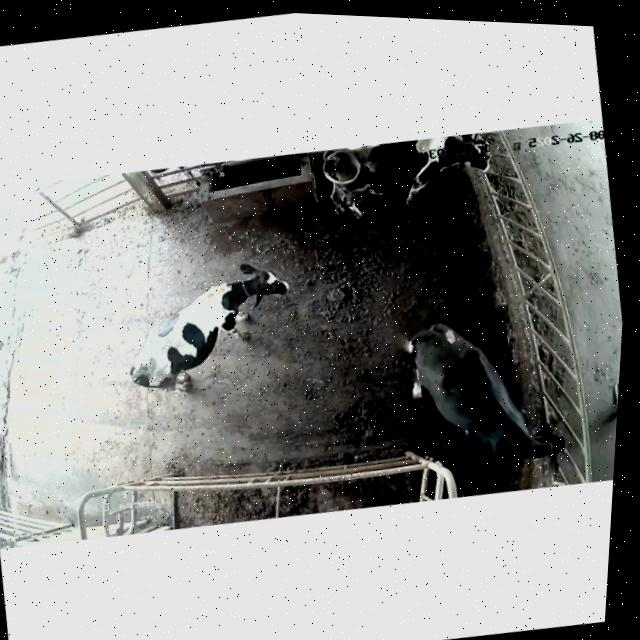stand: (107, 243, 317, 419)
